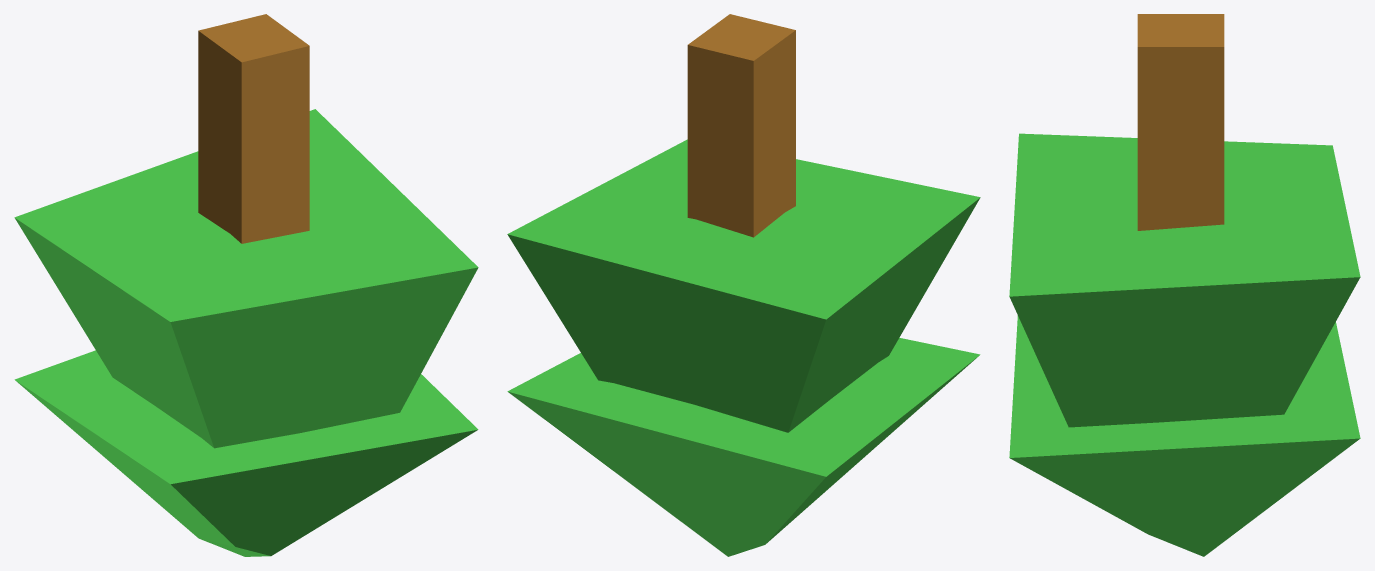
File: arvore.fbx
The picture shows the model from 3 angles, left to right: view 1: azimuth 30°, elevation 25°; view 2: azimuth 150°, elevation 25°; view 3: azimuth 270°, elevation 25°; orthographic projection. The views are drawn at different scales.
Parts seen in each view (by area): view 1: pCube2, pCube3, pCube1; view 2: pCube2, pCube3, pCube1; view 3: pCube2, pCube3, pCube1.
Boxes of the visible parts, x1,y1,x2,y2 form: pCube2: (14, 109, 478, 448); pCube3: (14, 350, 478, 556); pCube1: (198, 14, 309, 243); pCube2: (507, 139, 980, 432); pCube3: (507, 338, 980, 556); pCube1: (687, 14, 795, 237); pCube2: (1009, 133, 1360, 427); pCube3: (1009, 315, 1360, 556); pCube1: (1137, 14, 1224, 230).
Bounding box in the file's own units: 2.24 × 3.56 × 2.16.
